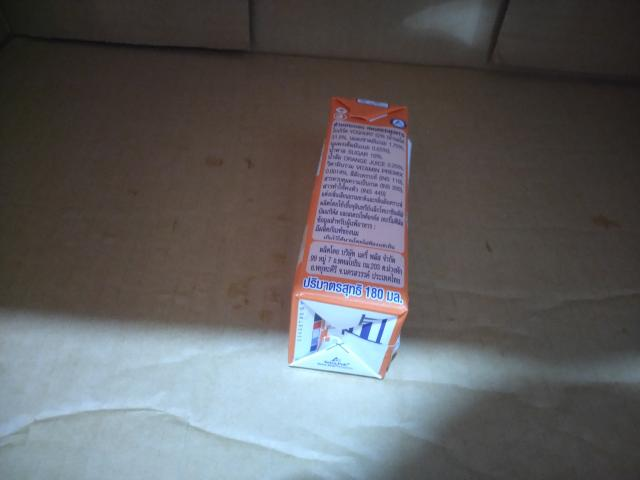drink_box: (259, 88, 440, 400)
